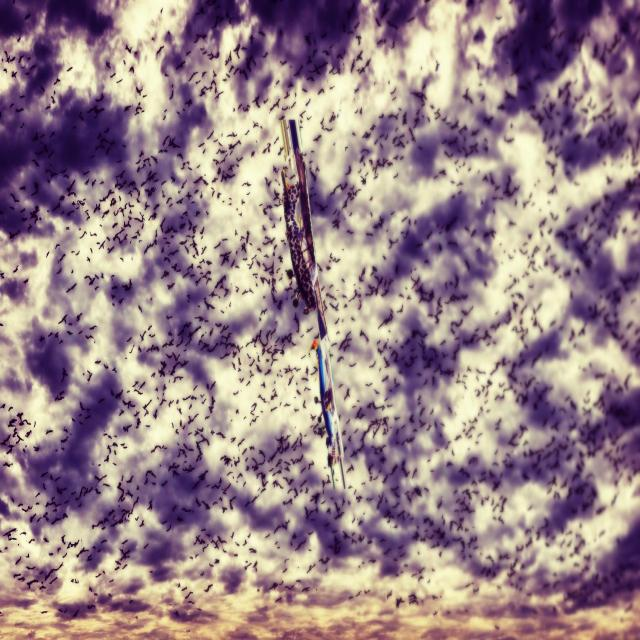airplane: (278, 116, 347, 491)
